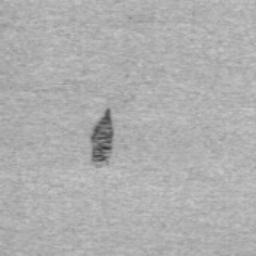Secondary rust skin: (90, 107, 113, 168)
